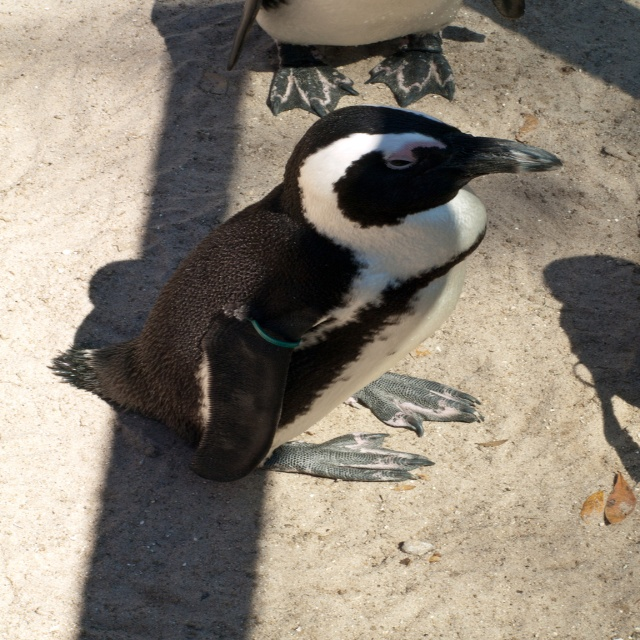Penguin: (27, 107, 572, 489), (222, 0, 519, 121)
